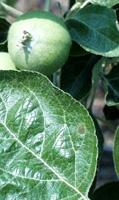Apple Scab Leaf: (1, 67, 100, 200)
